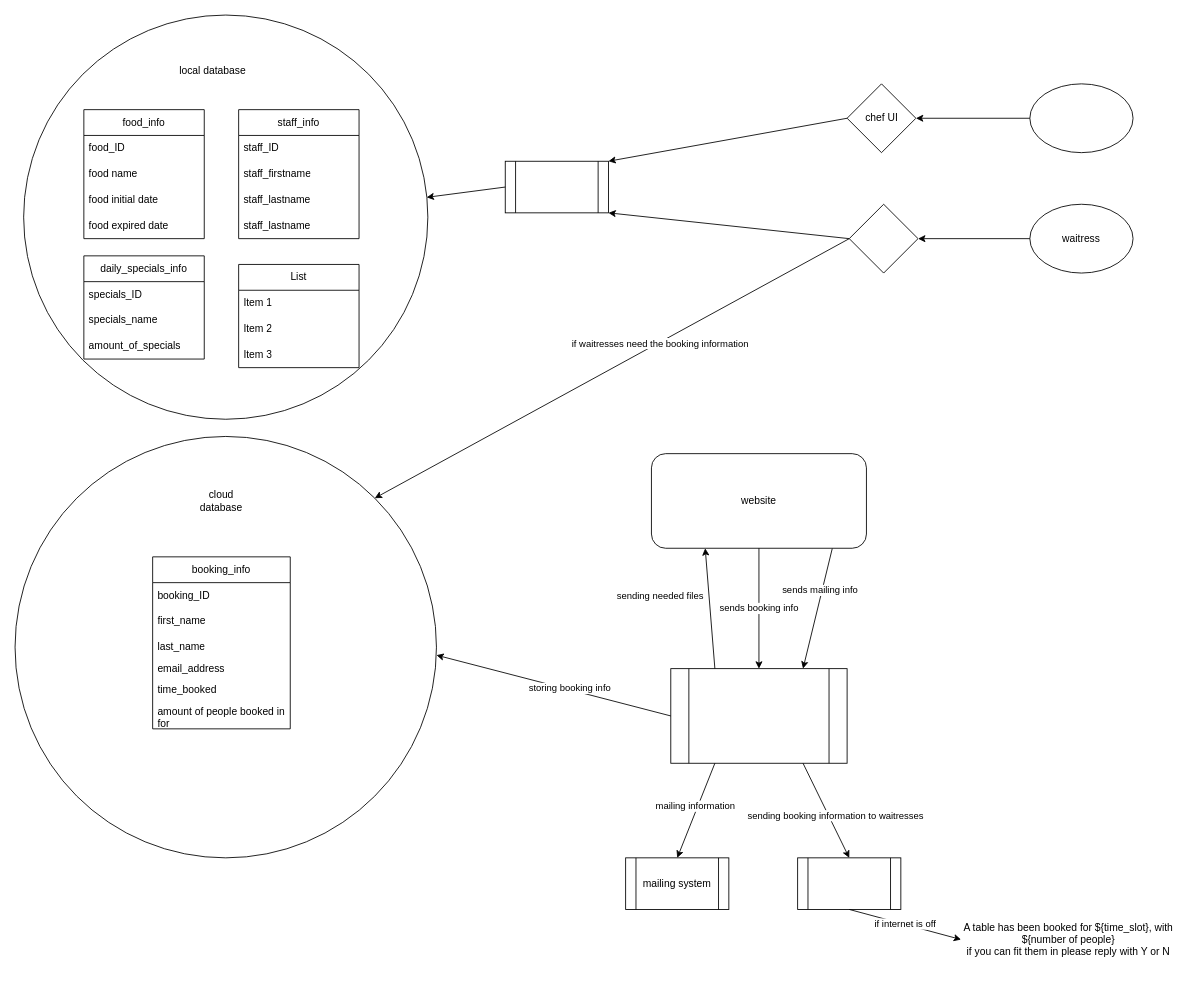
The diagram is 1191 pixels wide and 1002 high, and some of its shapes have lost their labels. Here are the shapes that lost their labels. From the top down, the centre of each, then its label:
At pixel 1081 118: "chef".
At pixel 556 186: "database api".
At pixel 883 238: "waitress api".
At pixel 758 715: "cloud server(.js)".
At pixel 849 883: "SMS system".
